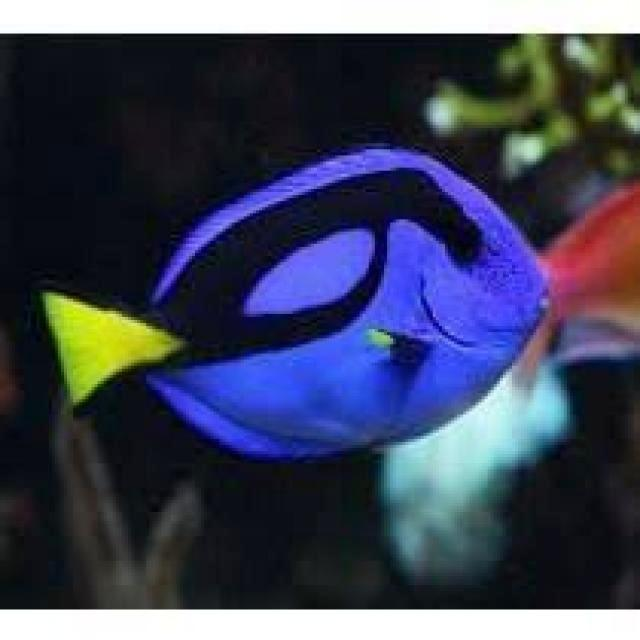BlueTang: (46, 145, 552, 461)
